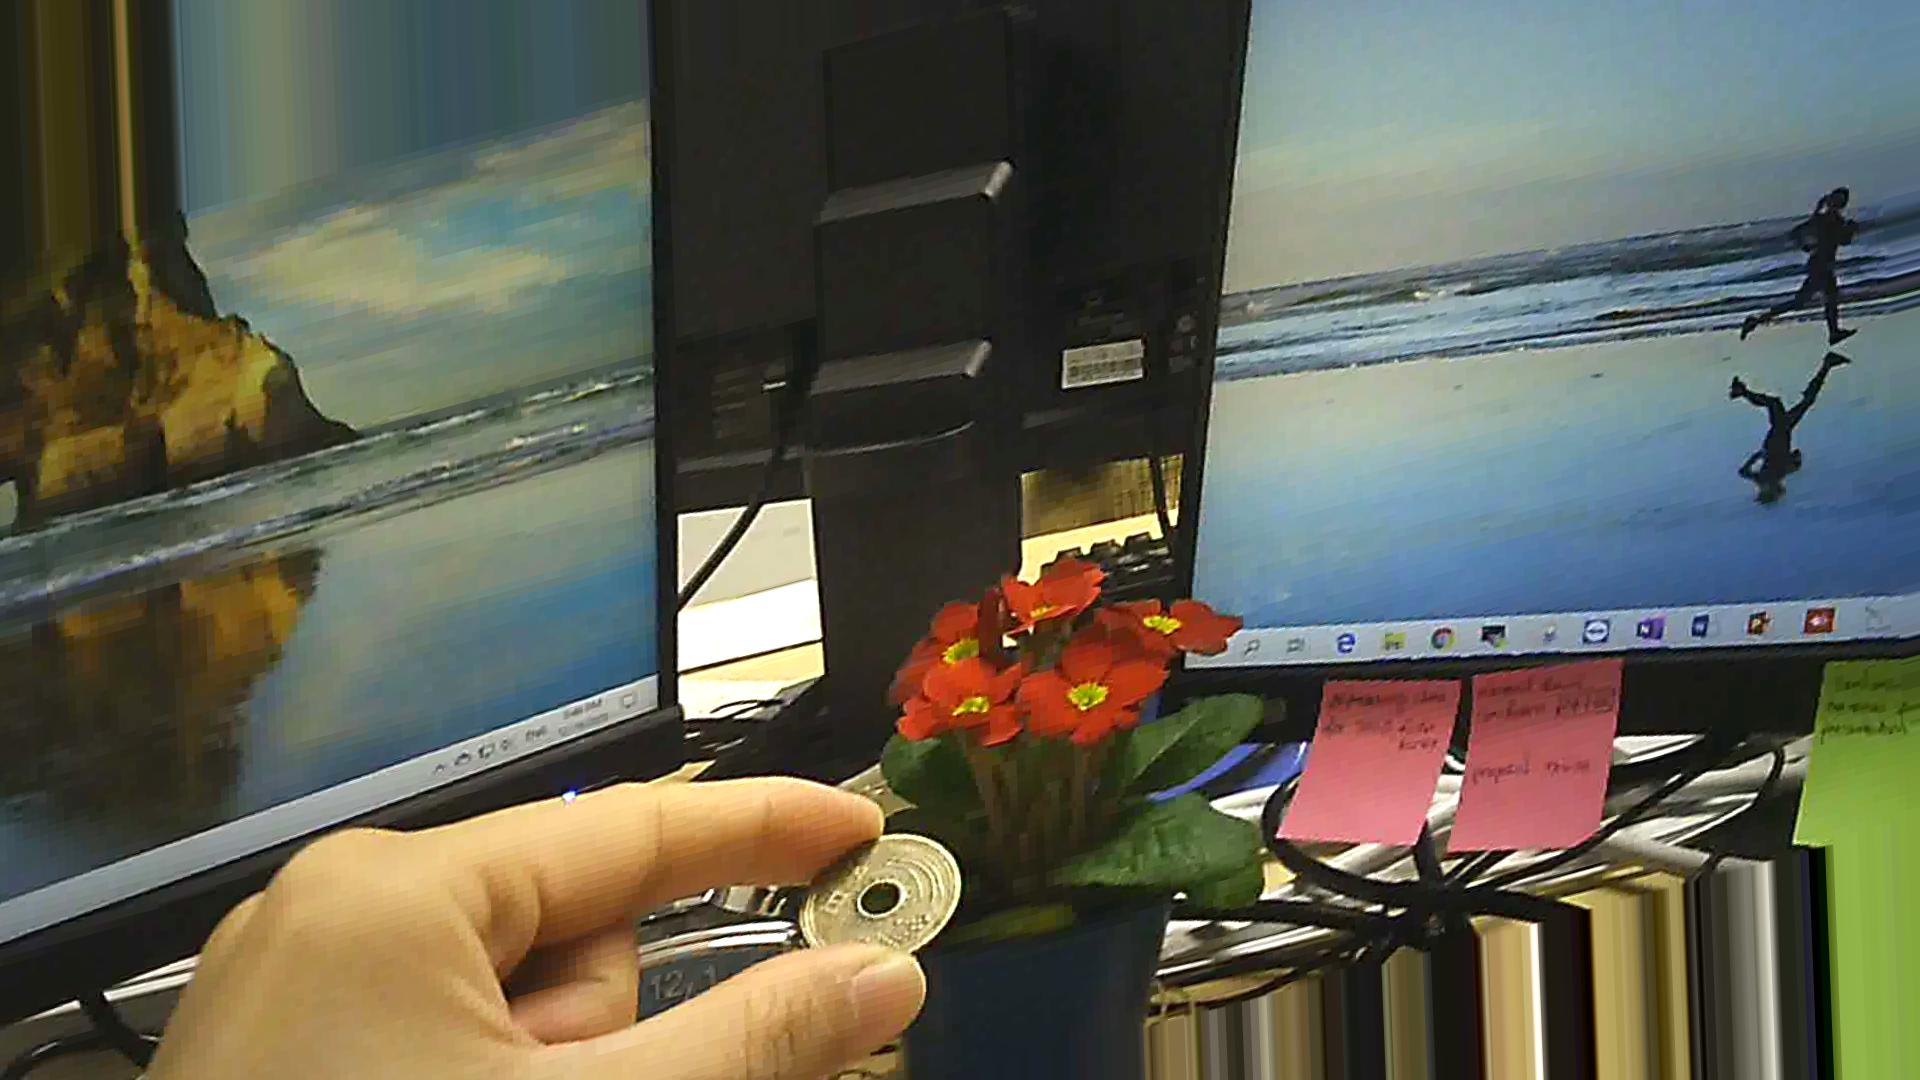5 Yen: (775, 825, 964, 963)
